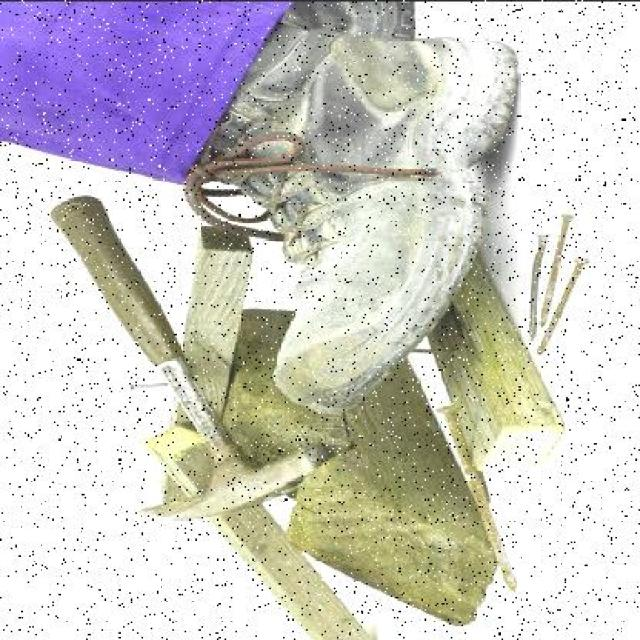shoes: (202, 22, 538, 390)
